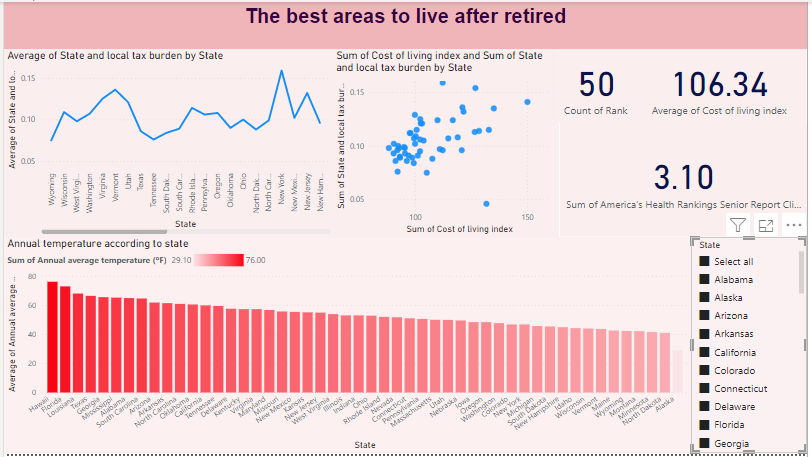

The page's visual inventory and layout, read from the dashboard file:
{"tool":"powerbi","page":{"name":"Page 1","canvas":[1280,720],"ordinal":0},"visuals":[{"type":"clusteredColumnChart","title":"Annual temperature according to state","fields":{"Y":["Avg(Table 1.Annual average temperature (ºF))"],"Category":["Table 1.State"]},"box":[0,375,1095,345],"z":0},{"type":"slicer","fields":{"Values":["Table 1.State"]},"box":[1094.6,374.9,185.4,344.7],"z":1000},{"type":"lineChart","fields":{"Category":["Table 1.State"],"Y":["Avg(Table 1.State and local tax burden)"]},"box":[0,75,525,300],"z":2000},{"type":"card","fields":{"Values":["CountNonNull(Table 1.Rank)"]},"box":[885,75,116.7,118.3],"z":3000},{"type":"card","fields":{"Values":["Sum(Table 1.America's Health Rankings Senior Report Clinical Care Score)"]},"box":[885.7,192.9,394.3,181.4],"z":4000},{"type":"card","fields":{"Values":["Avg(Table 1.Cost of living index)"]},"box":[1001.7,75,278.3,118.3],"z":5000},{"type":"scatterChart","fields":{"X":["Sum(Table 1.Cost of living index)"],"Y":["Sum(Table 1.State and local tax burden)"],"Category":["Table 1.State"]},"box":[525,75,360,300],"z":5001},{"type":"textbox","box":[0,0,1280,75],"z":5002}]}

Visuals, with their boxes in screenshot pixels (x1, y1, x2, y2), scaled from the page's 1280x720 canvas onto the 812x457 screenshot:
"Annual temperature according to state" clusteredColumnChart: detection(0, 238, 695, 456)
slicer - Table 1.State: detection(694, 238, 811, 456)
lineChart - Table 1.State x Avg(Table 1.State and local tax burden): detection(0, 48, 333, 238)
card - CountNonNull(Table 1.Rank): detection(561, 48, 635, 123)
card - Sum(Table 1.America's Health Rankings Senior Report Clinical Care Score): detection(562, 122, 811, 238)
card - Avg(Table 1.Cost of living index): detection(635, 48, 811, 123)
scatterChart - Sum(Table 1.Cost of living index) x Sum(Table 1.State and local tax burden): detection(333, 48, 561, 238)
textbox: detection(0, 0, 811, 48)
